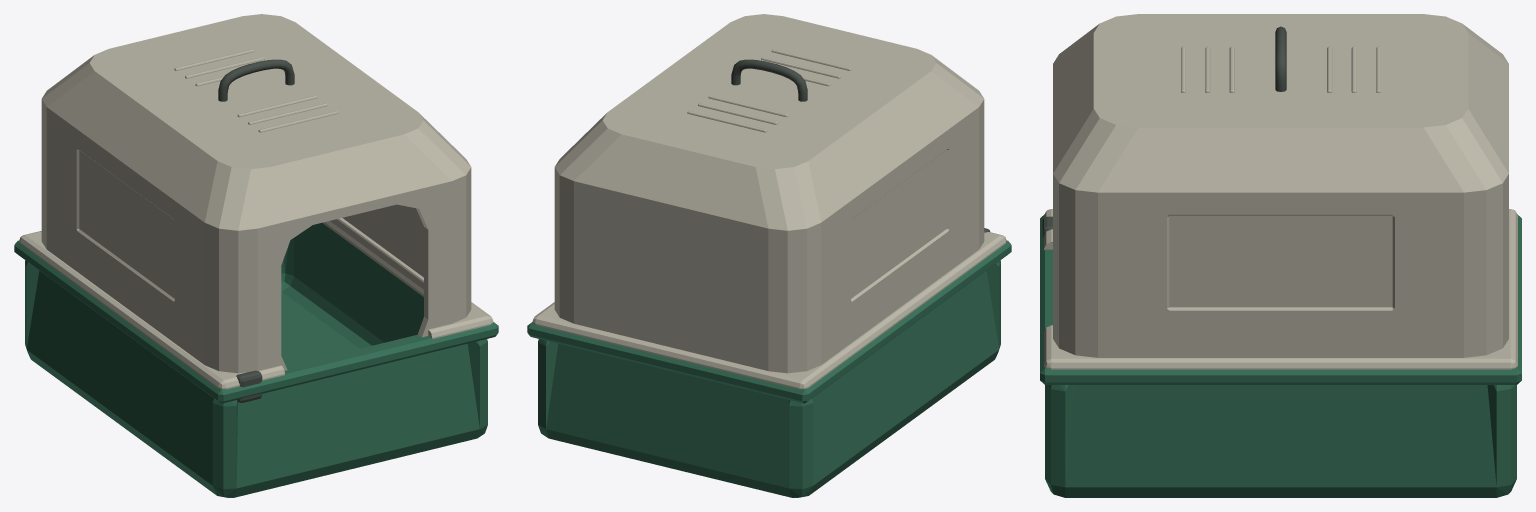
The model's file is A-NEW-20261026-COVERED-CAT-LITTER-BOX-001_LOD2_R6.glb.
3 views of the same model, side by side, from view 1: azimuth 30°, elevation 25°; view 2: azimuth 150°, elevation 25°; view 3: azimuth 270°, elevation 25° (orthographic). The views are drawn at different scales.
Visible parts, largest first — view 1: removable hollow hood, deep empty basin, thick basin rim, hood seating flange, roof carrying handle; view 2: removable hollow hood, deep empty basin, thick basin rim, hood seating flange, roof carrying handle; view 3: removable hollow hood, deep empty basin, thick basin rim, hood seating flange, roof carrying handle.
Part boxes in pixels (x1,y1,x2,y2): removable hollow hood: (41,14,471,373); deep empty basin: (25,223,487,497); thick basin rim: (14,240,498,403); hood seating flange: (19,218,493,389); roof carrying handle: (218,59,294,101); removable hollow hood: (554,14,984,373); deep empty basin: (538,260,1000,497); thick basin rim: (527,240,1011,403); hood seating flange: (532,232,1006,389); roof carrying handle: (731,59,807,101); removable hollow hood: (1053,14,1508,357); deep empty basin: (1045,385,1516,497); thick basin rim: (1040,214,1521,384); hood seating flange: (1044,209,1517,369); roof carrying handle: (1275,26,1286,91).
Size of the model in its own units: 0.462 by 0.5303 by 0.592.
